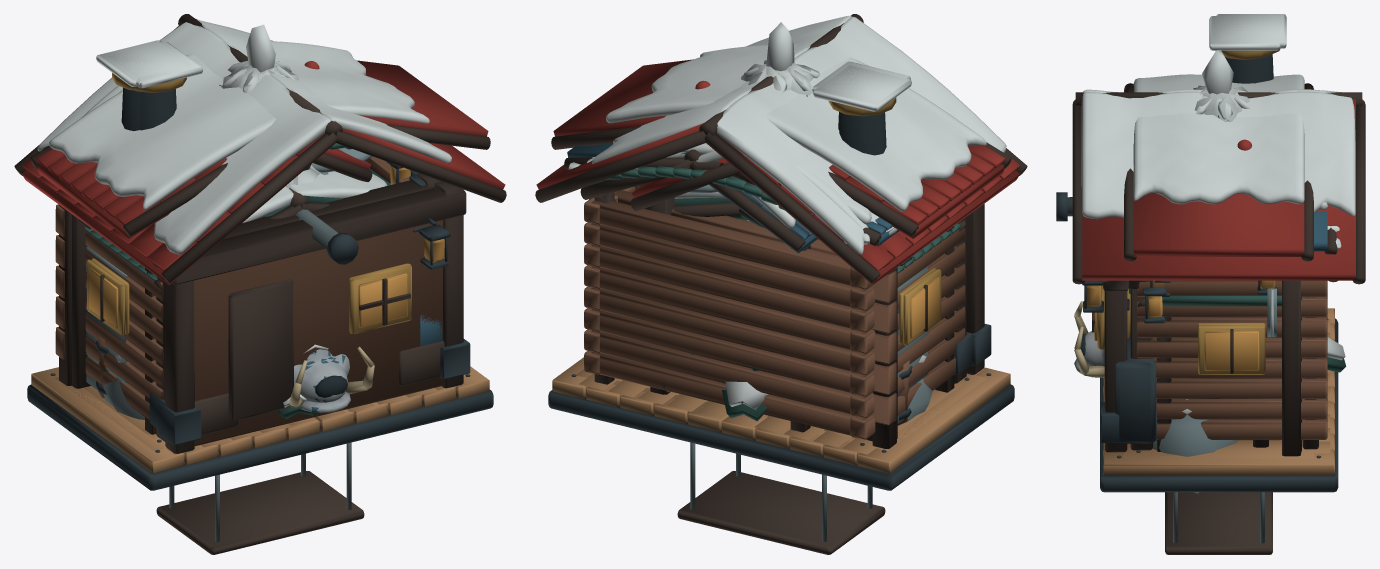
File: frostline-art.glb
The picture shows the model from 3 angles, left to right: view 1: azimuth 30°, elevation 25°; view 2: azimuth 150°, elevation 25°; view 3: azimuth 270°, elevation 25°; orthographic projection. The views are drawn at different scales.
Parts seen in each view (by area): view 1: Cone.074, Cone.048, Cone.069, Cone.051, Cone.031, Cone.052, Cone.045, Cone.019, Cone.002, branch, Cone.017, Cone.055 (+3 smaller); view 2: Cone.074, Cone.048, Cone.069, Cone.051, Cone.031, branch, Cone.033, Cone.017, Cone.052, Cone.011, Cone.022, Cone.045 (+2 smaller); view 3: Cone.048, Cone.069, Cone.074, Cone.051, Cone.019, branch, Cone.031, Sphere, Cone.017, Cone.045, Cone.002, Cone.052 (+5 smaller).
Part boxes in pixels (left/top/right/bottom): Cone.074: left=58, top=160, right=470, bottom=463; Cone.048: left=27, top=40, right=493, bottom=490; Cone.069: left=14, top=14, right=506, bottom=285; Cone.051: left=156, top=442, right=364, bottom=554; Cone.031: left=55, top=40, right=425, bottom=442; Cone.052: left=91, top=156, right=444, bottom=441; Cone.045: left=84, top=168, right=390, bottom=290; Cone.019: left=108, top=42, right=202, bottom=130; Cone.002: left=289, top=346, right=374, bottom=407; branch: left=219, top=24, right=328, bottom=419; Cone.017: left=48, top=143, right=465, bottom=451; Cone.055: left=296, top=209, right=358, bottom=264; Cone.074: left=579, top=191, right=991, bottom=463; Cone.048: left=548, top=44, right=1014, bottom=490; Cone.069: left=535, top=14, right=1027, bottom=285; Cone.051: left=677, top=442, right=885, bottom=554; Cone.031: left=650, top=65, right=969, bottom=448; branch: left=663, top=22, right=819, bottom=421; Cone.033: left=580, top=149, right=817, bottom=253; Cone.017: left=568, top=156, right=986, bottom=451; Cone.052: left=614, top=186, right=971, bottom=438; Cone.011: left=630, top=150, right=905, bottom=250; Cone.022: left=564, top=143, right=899, bottom=246; Cone.045: left=673, top=192, right=966, bottom=273; Cone.048: left=1100, top=74, right=1338, bottom=492; Cone.069: left=1072, top=89, right=1365, bottom=284; Cone.074: left=1082, top=280, right=1331, bottom=453; Cone.051: left=1165, top=492, right=1272, bottom=554; Cone.019: left=1137, top=16, right=1318, bottom=452; branch: left=1193, top=49, right=1346, bottom=372; Cone.031: left=1129, top=14, right=1301, bottom=452; Sphere: left=1152, top=399, right=1237, bottom=493; Cone.017: left=1125, top=226, right=1341, bottom=458; Cone.045: left=1137, top=295, right=1281, bottom=307; Cone.002: left=1074, top=301, right=1104, bottom=377; Cone.052: left=1127, top=280, right=1303, bottom=451.
Bounding box in the file's own units: 250 × 323 × 192.
